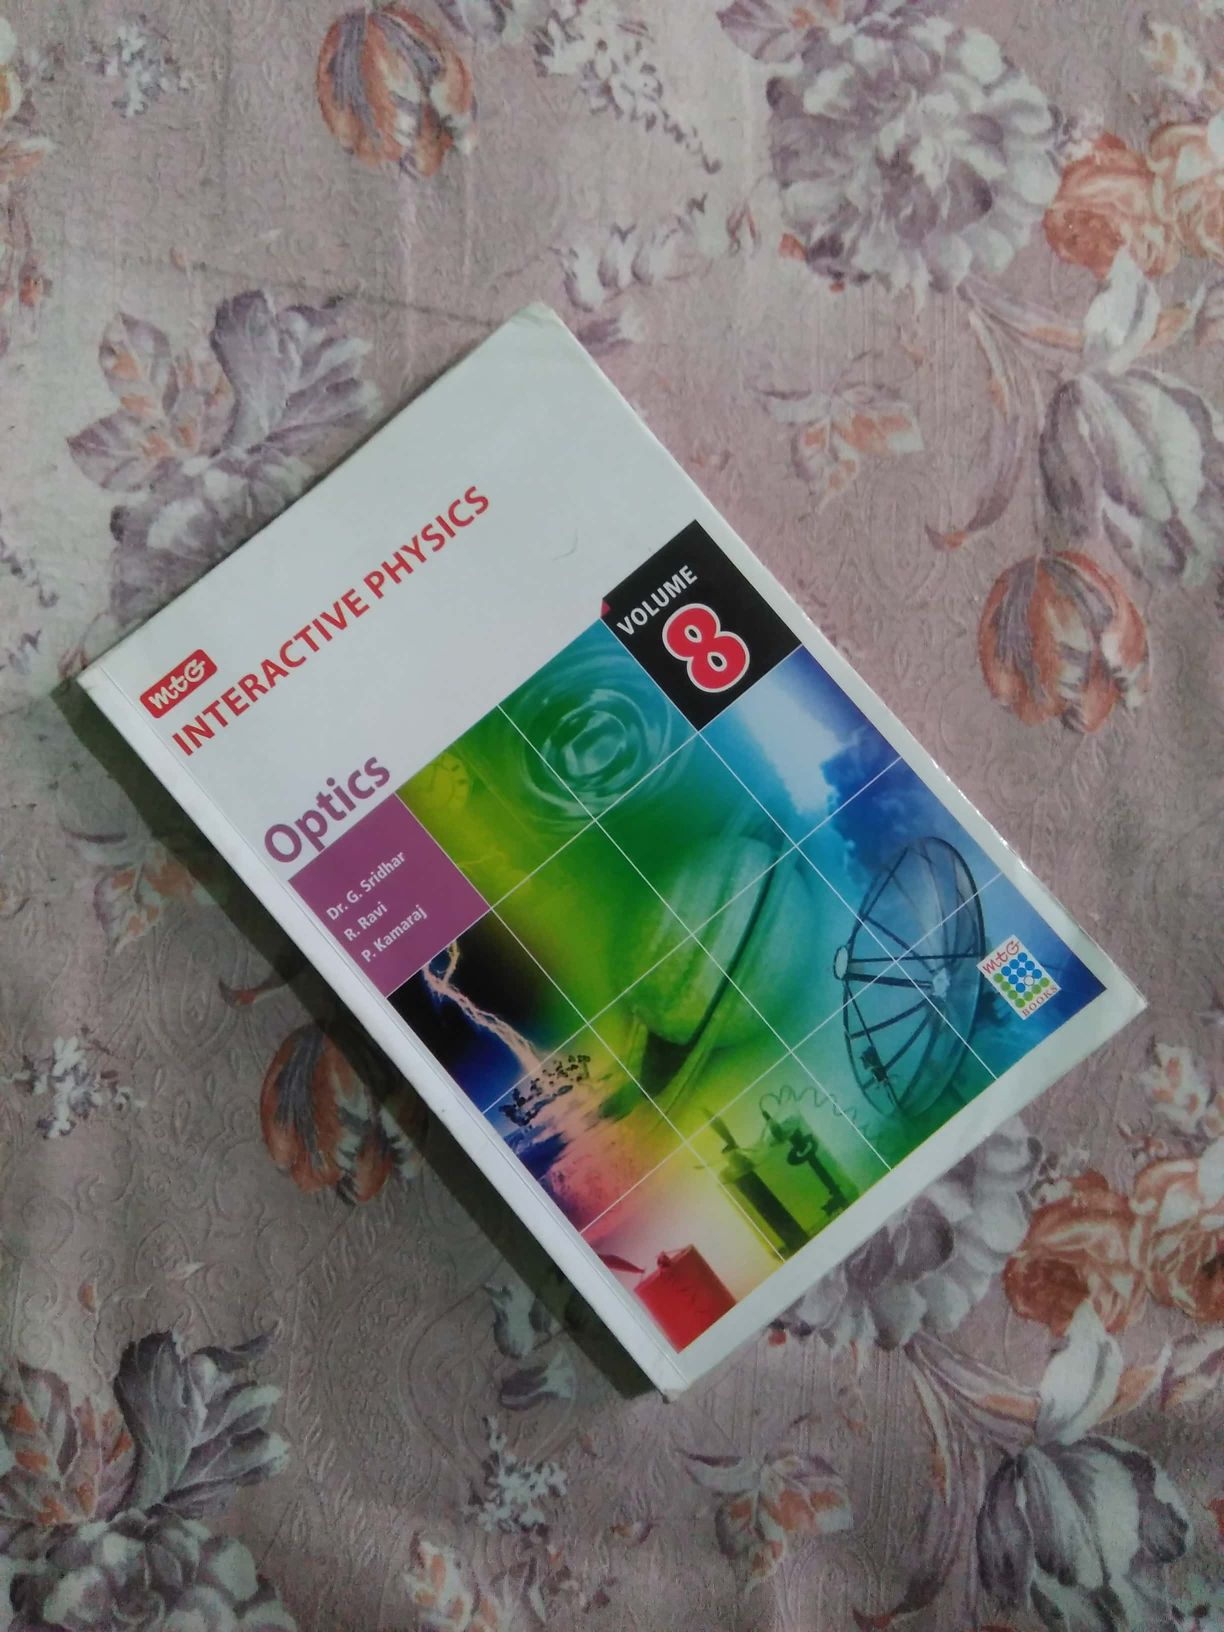optics: (84, 315, 1119, 1446)
